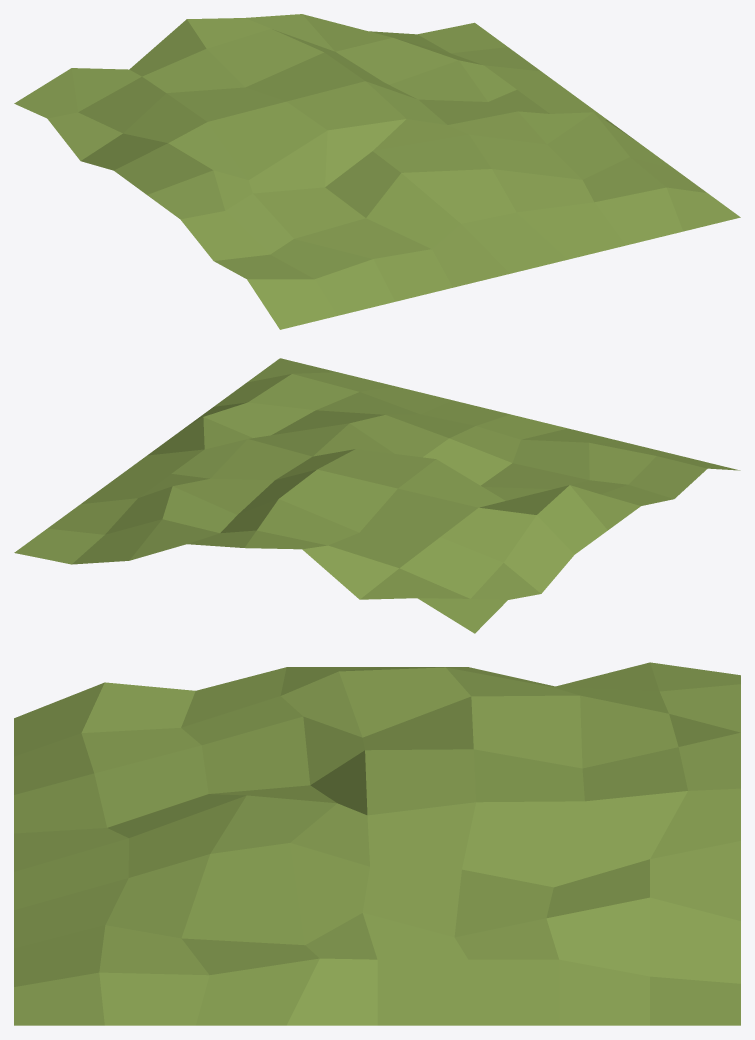
Rendered from terrain.gltf.
3 views of the same model, one above another, from view 1: azimuth 30°, elevation 25°; view 2: azimuth 150°, elevation 25°; view 3: azimuth 270°, elevation 25° (orthographic). The views are drawn at different scales.
Parts seen in each view (by area): view 1: Plane; view 2: Plane; view 3: Plane.
Boxes of the visible parts, x1,y1,x2,y2 form: Plane: (14, 14, 740, 329); Plane: (14, 358, 740, 633); Plane: (14, 662, 740, 1025).
Size of the model in its own units: 15.91 by 2.44 by 15.91.
